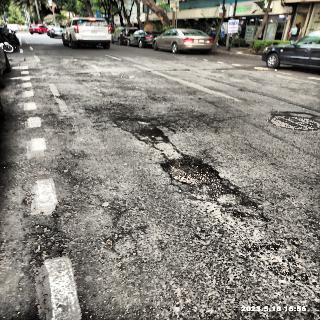alligator-crack: (106, 114, 217, 126), (88, 101, 127, 112)
crack: (106, 206, 132, 237)
pothole: (161, 154, 242, 208), (138, 128, 166, 138), (283, 110, 317, 118)
